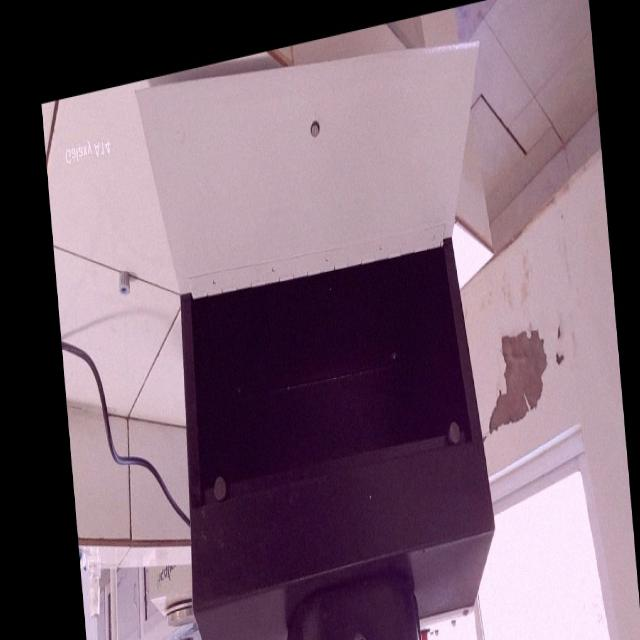U.V Cabinet: (167, 204, 525, 640)
